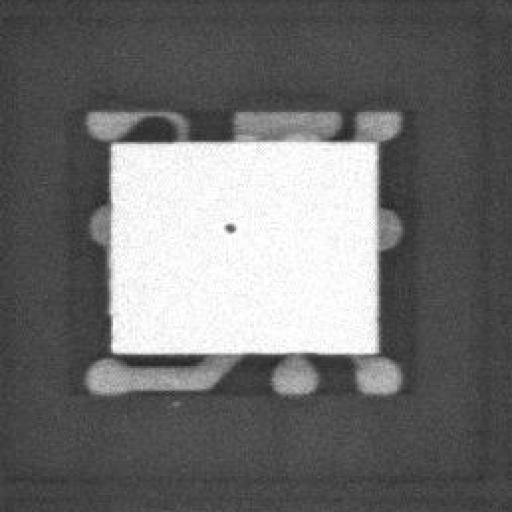DIE_INK: (204, 228, 228, 246)
